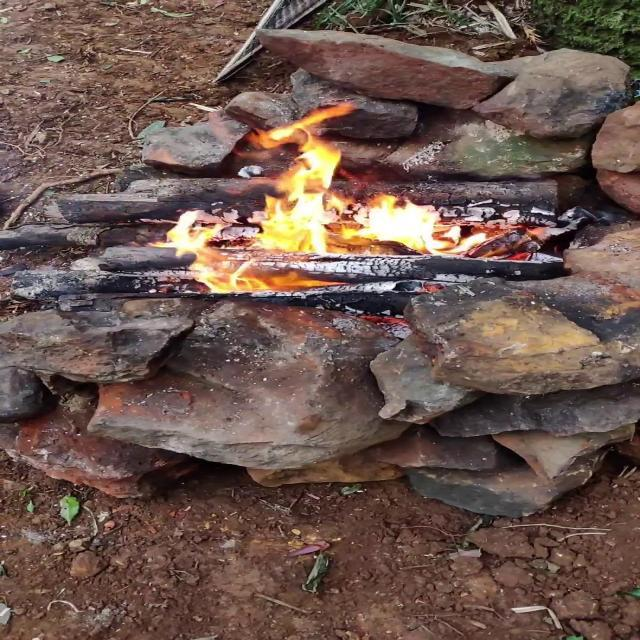Fire: (104, 104, 502, 294)
